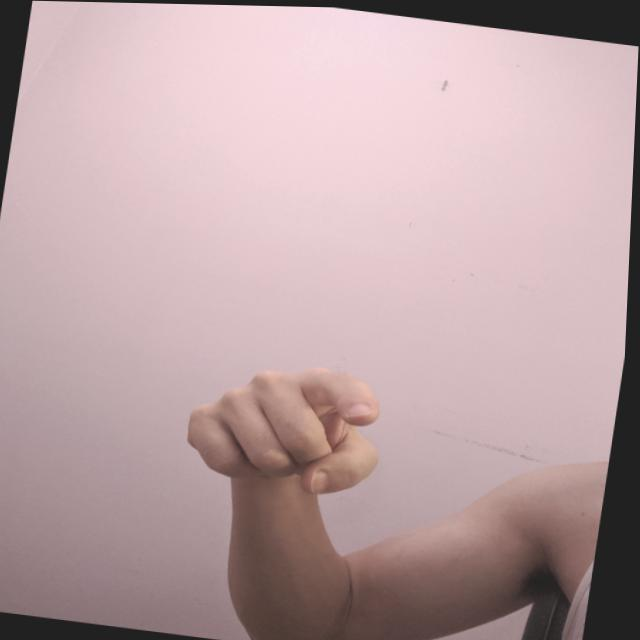Z: (178, 345, 402, 506)
